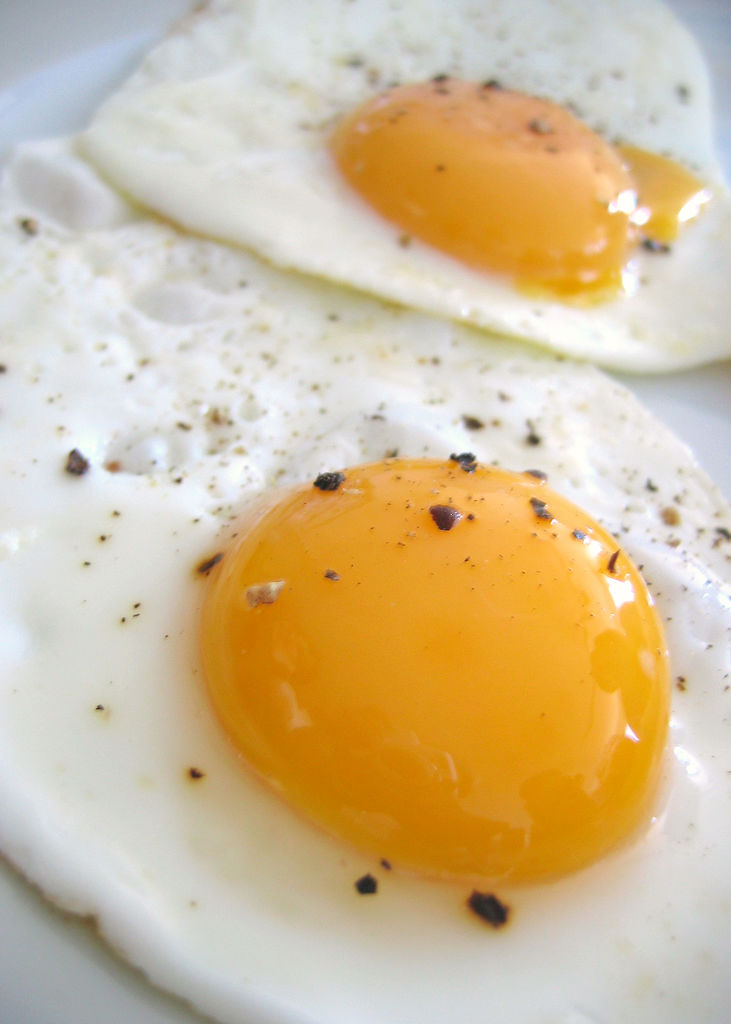fried egg: (15, 191, 693, 1024)
